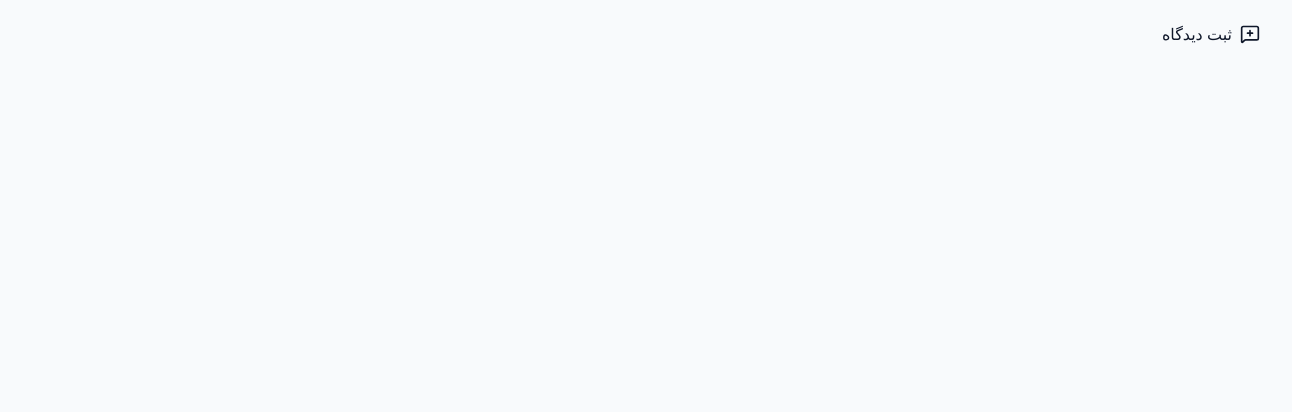
Test: SubjectCommentComposer: a post’s form › sends what was typed and nothing empty; the notice replaces the form, focused; nothing inserted
Click the button "ثبت دیدگاه". click: (1211, 34)
box: [1142,12,1280,56]
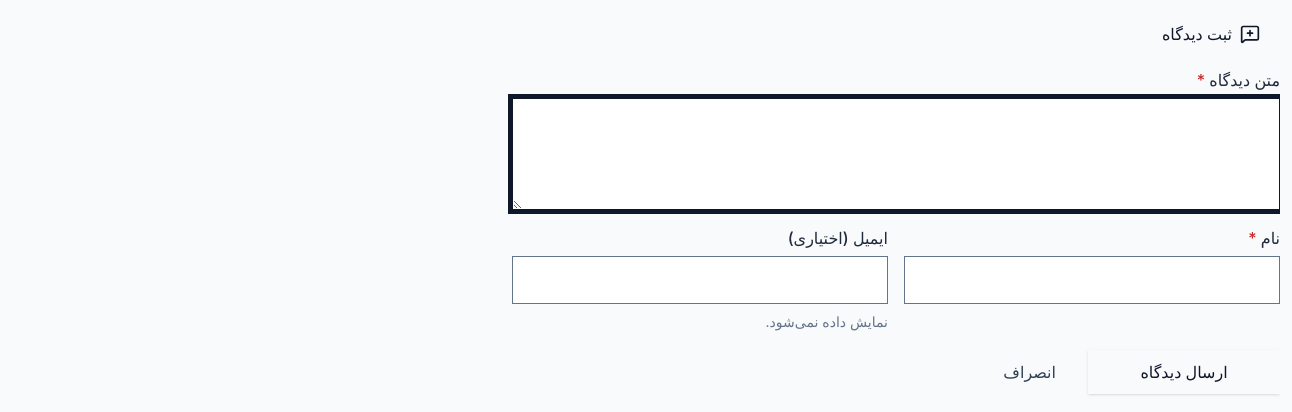
Type " ممنون " into the text box labelled "متن دیدگاه *". click: (896, 154)
box: [512,98,1280,210]
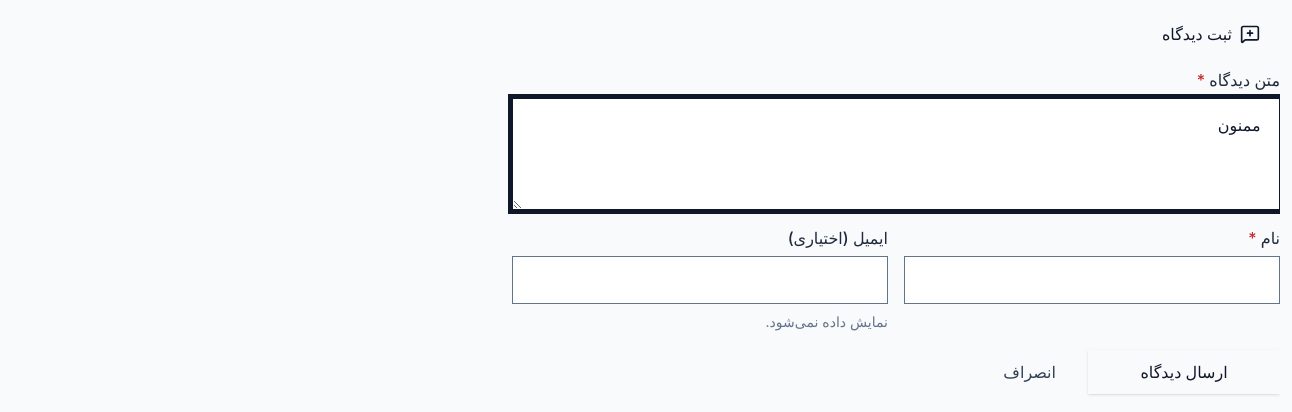
Type "علی" into the field labelled "نام *". click: (1092, 280)
box: [905,257,1279,303]
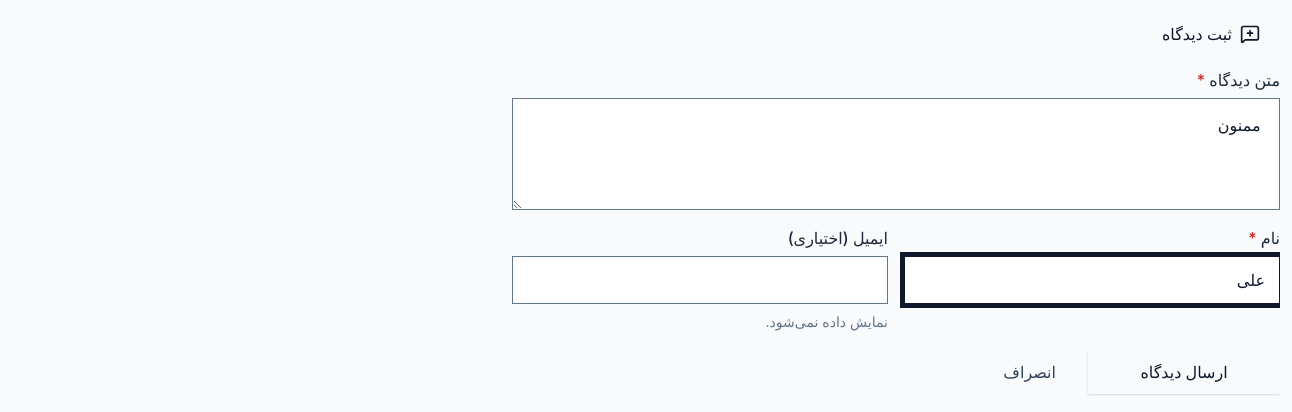
Click the button "ارسال دیدگاه". click: (1184, 372)
box: [1088,350,1280,394]
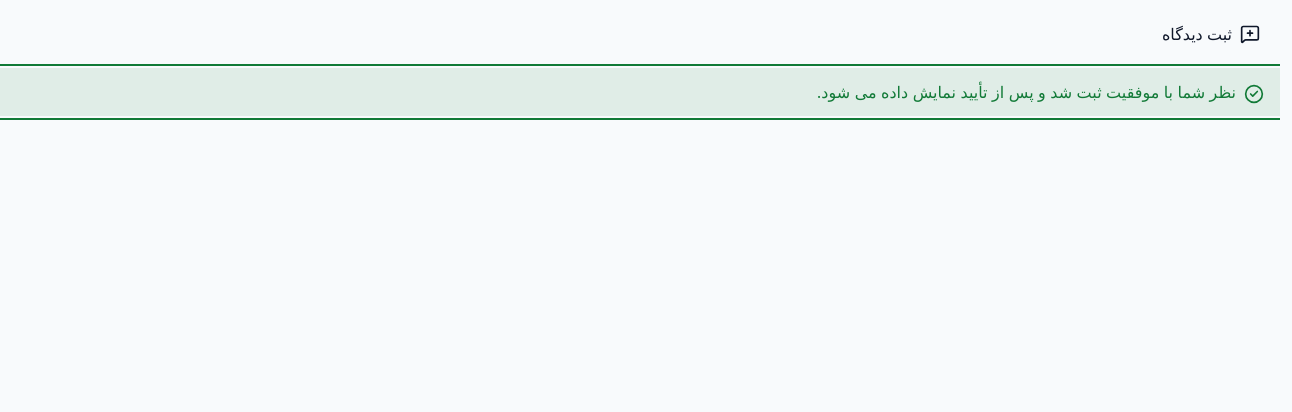
Expected: the message reads "نظر شما با موفقیت ثبت شد و پس از تأیید نمایش داده می شود.", [817,82,1236,102]
# Opened again: an empty form.
Click the button "ثبت دیدگاه". click: (1211, 34)
box: [1142,12,1280,56]
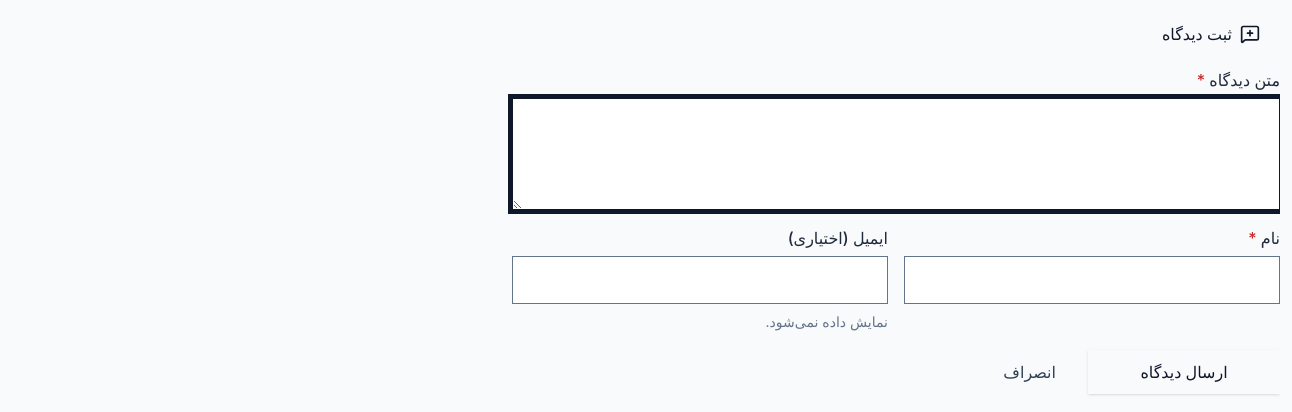
Expected: the text box labelled "متن دیدگاه *" is empty, [512,98,1280,210]
